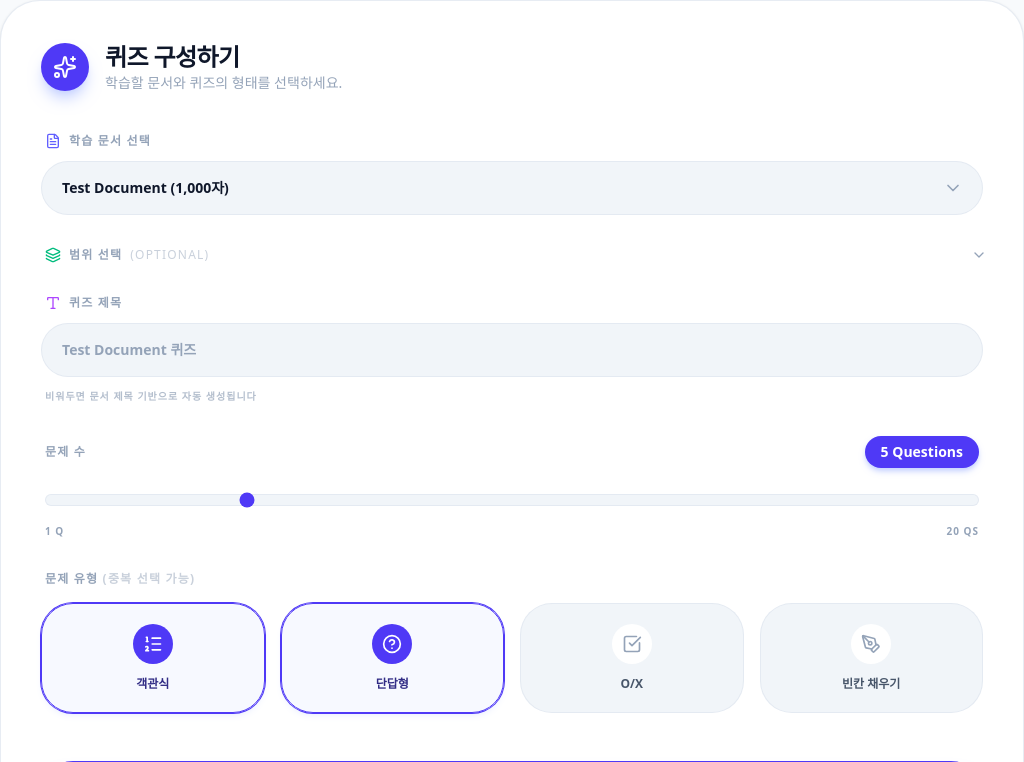
it: QuizConfigForm › select all and deselect all buttons work
The width and height of the screenshot is (1024, 762).
Click the text "범위 선택": coordinates (96, 255) [69,247,122,263]
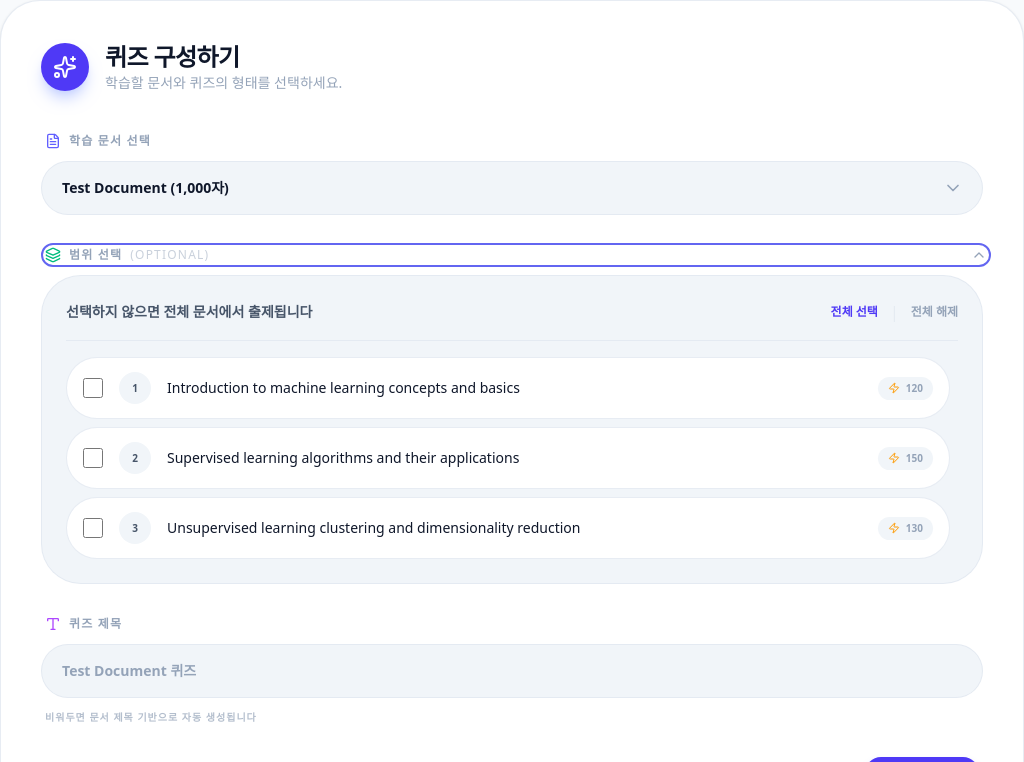
expect the button "전체 선택" is shown: met
Click the button "전체 선택": coordinates (854, 312) [831,300,878,324]
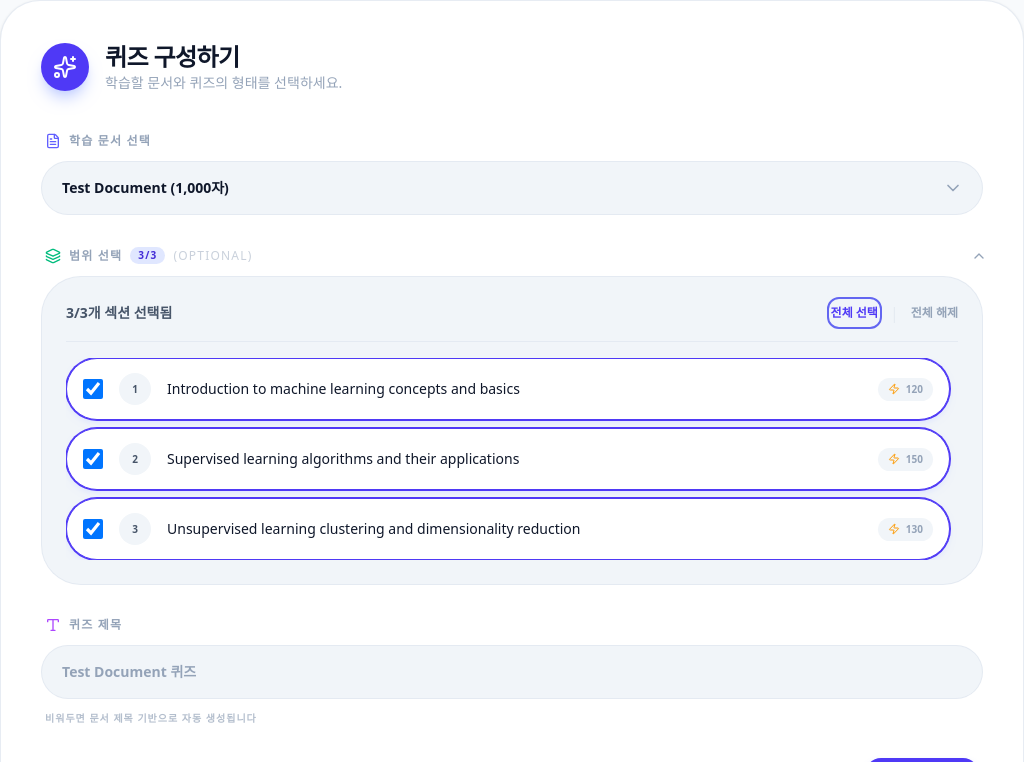
expect the checkbox labelled "1 Introduction to machine learning concepts and basics 120" is checked: met, box [83,379,103,399]
expect the checkbox labelled "2 Supervised learning algorithms and their applications 150" is checked: met, box [83,449,103,469]
expect the 3rd checkbox is checked: met, box [83,519,103,539]
Click the button "전체 해제": coordinates (934, 313) [911,301,958,325]
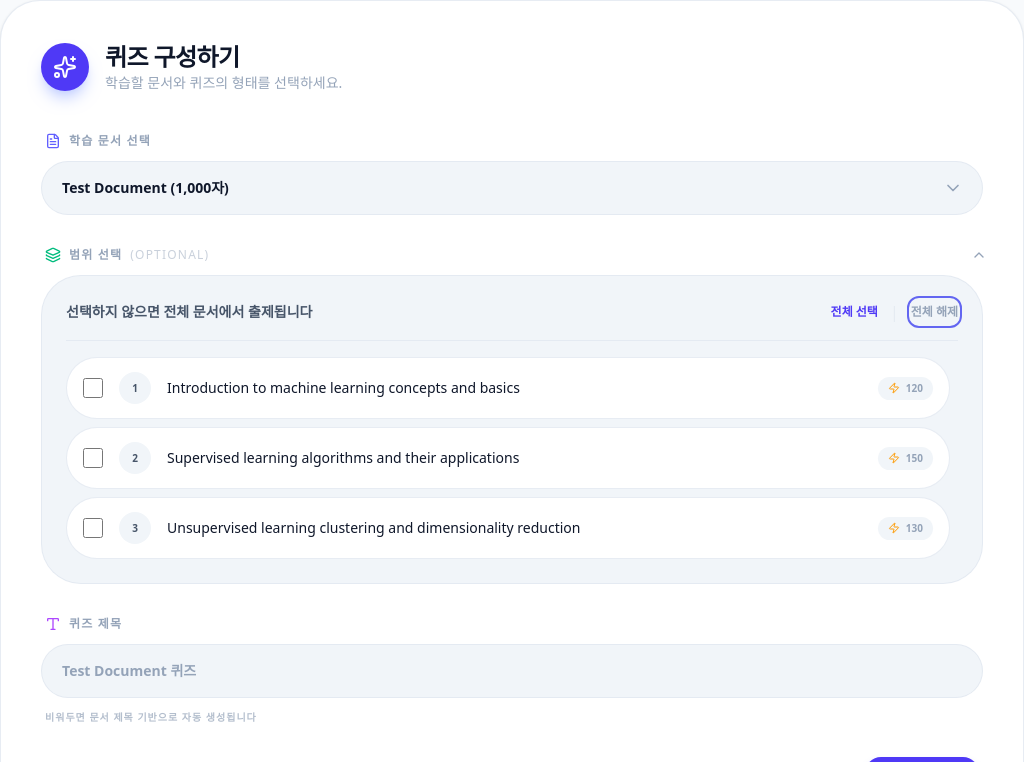
expect the checkbox labelled "1 Introduction to machine learning concepts and basics 120" is not checked: met, box [83,378,103,398]
expect the checkbox labelled "2 Supervised learning algorithms and their applications 150" is not checked: met, box [83,448,103,468]
expect the 3rd checkbox is not checked: met, box [83,518,103,538]
